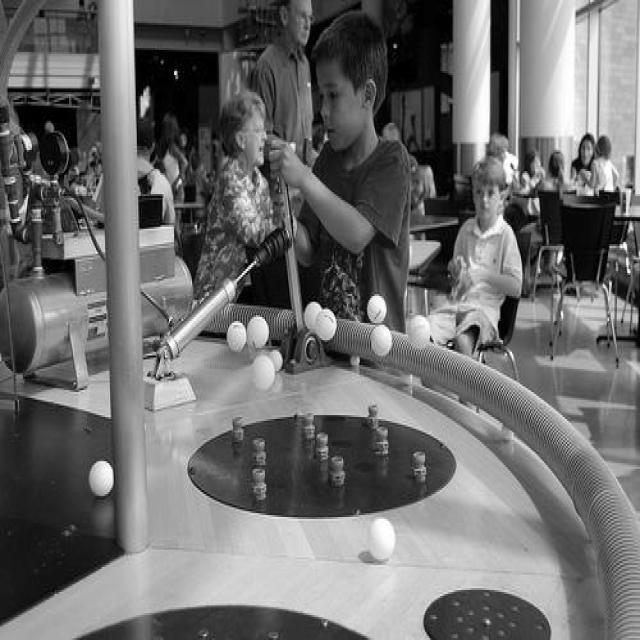ping-pong-ball: (368, 518, 397, 562), (88, 460, 114, 498), (250, 355, 276, 392), (408, 315, 431, 350), (247, 315, 269, 349), (316, 308, 338, 341), (371, 325, 392, 357), (226, 320, 246, 353), (367, 294, 387, 324), (304, 301, 323, 332), (269, 350, 283, 371)
